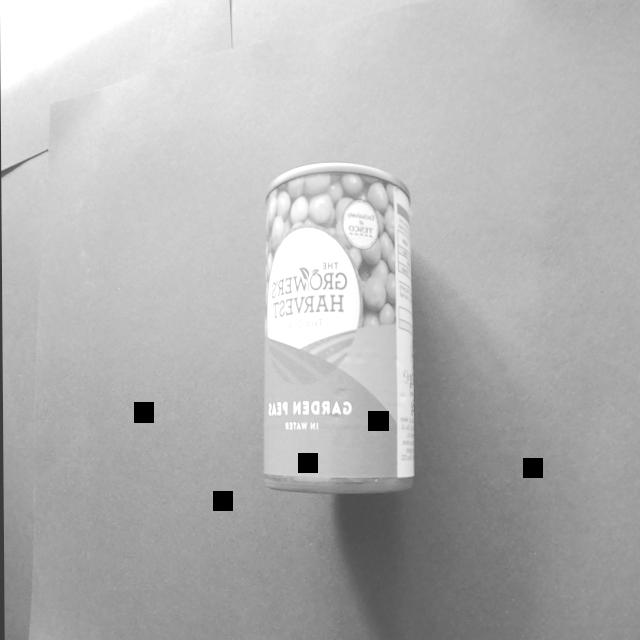Peas: (243, 152, 429, 508)
